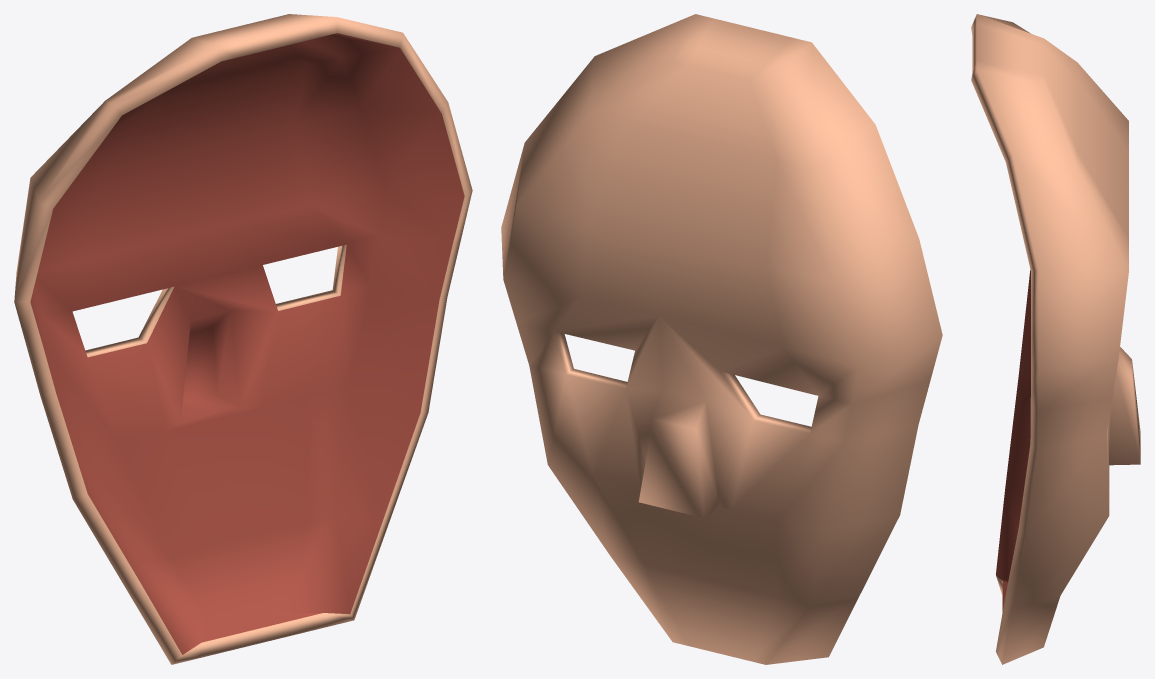
File: Mask.fbx
3 views of the same model, side by side, from view 1: azimuth 30°, elevation 25°; view 2: azimuth 150°, elevation 25°; view 3: azimuth 270°, elevation 25° (orthographic). The views are drawn at different scales.
Visible parts, largest first — view 1: MaleNPC.003; view 2: MaleNPC.003; view 3: MaleNPC.003.
Boxes of the visible parts, x1,y1,x2,y2 form: MaleNPC.003: (14,14,472,664); MaleNPC.003: (501,14,942,664); MaleNPC.003: (971,14,1140,664).
Bounding box in the file's own units: 147 × 191 × 50.4.
Materials: 1 (1 with a texture image).
